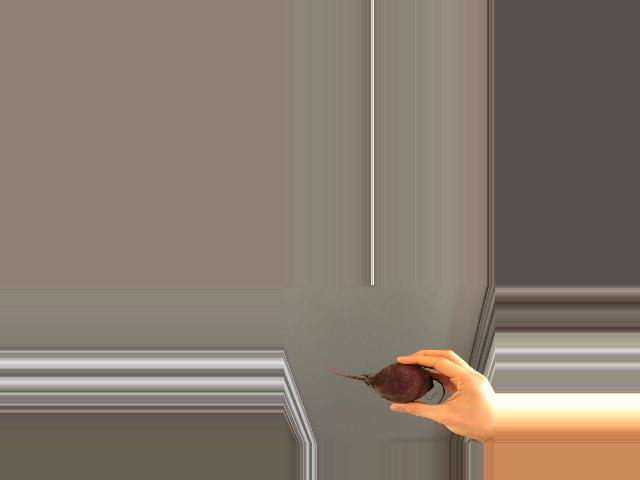beet: (318, 363, 443, 404)
